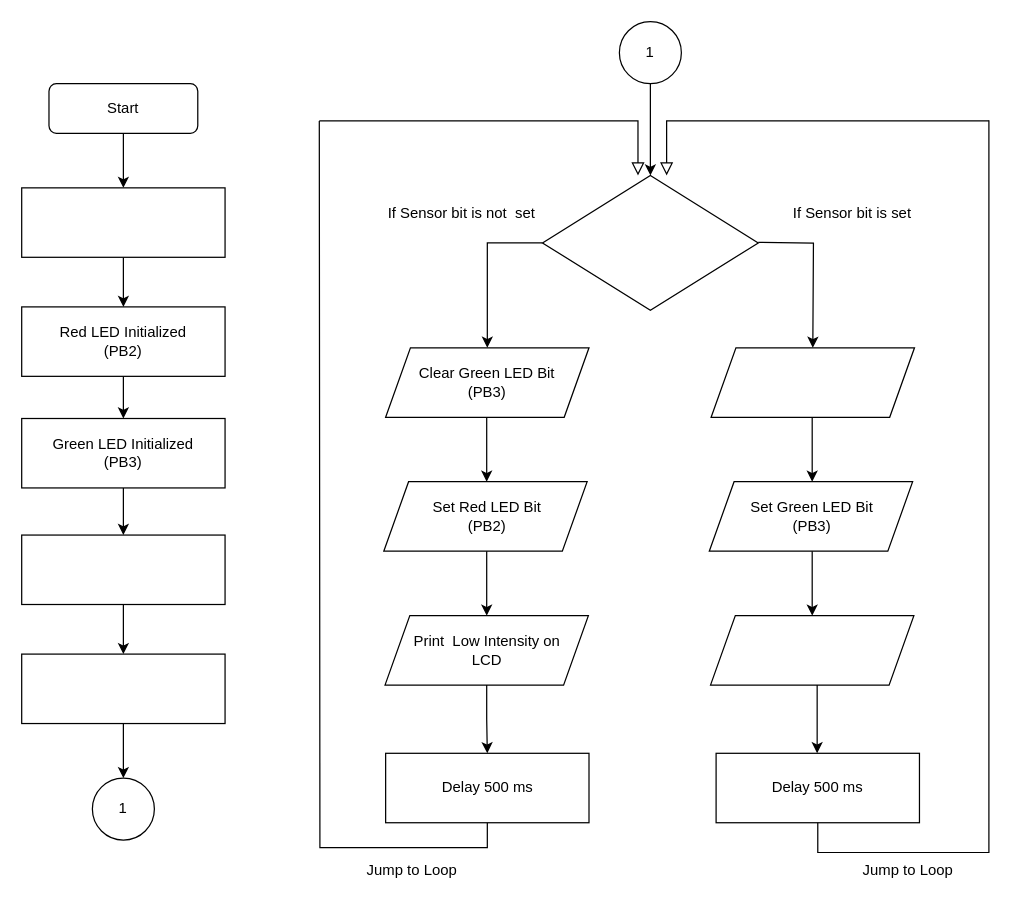
This 1023x911 diagram has some shape labels left out. The shapes that lost their labels are listed below. From the top down, each one's centre as x and y in pixels, then its label:
At point (122, 222): "LCD Initialized".
At point (649, 242): "Lamp plugged in?".
At point (812, 382): "Clear Red LED Bit (PB2)".
At point (122, 569): "LDR Initialized (PB4)".
At point (811, 649): "Print High Intensity on LCD".
At point (122, 688): "Enable Pull-up Resistor".
